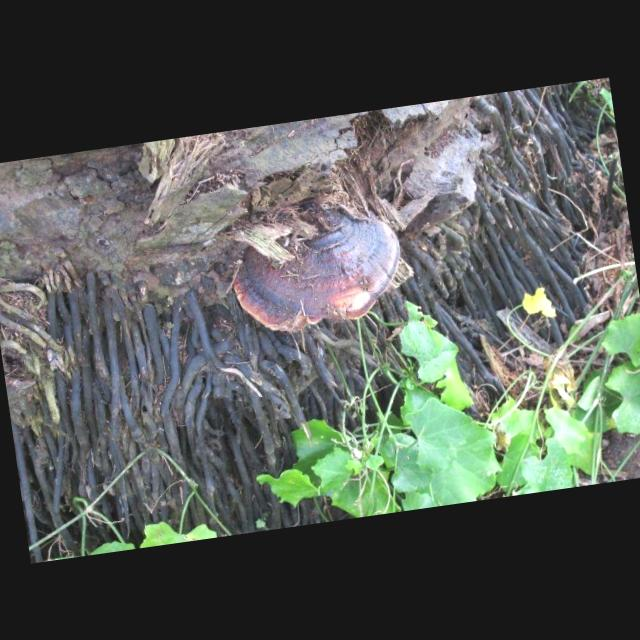ganoderma: (223, 194, 413, 342)
